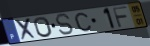1: (102, 7, 117, 31)
C: (74, 11, 93, 32)
F: (111, 5, 130, 29)
O: (33, 16, 54, 38)
S: (54, 13, 76, 36)
X: (14, 17, 38, 42)
